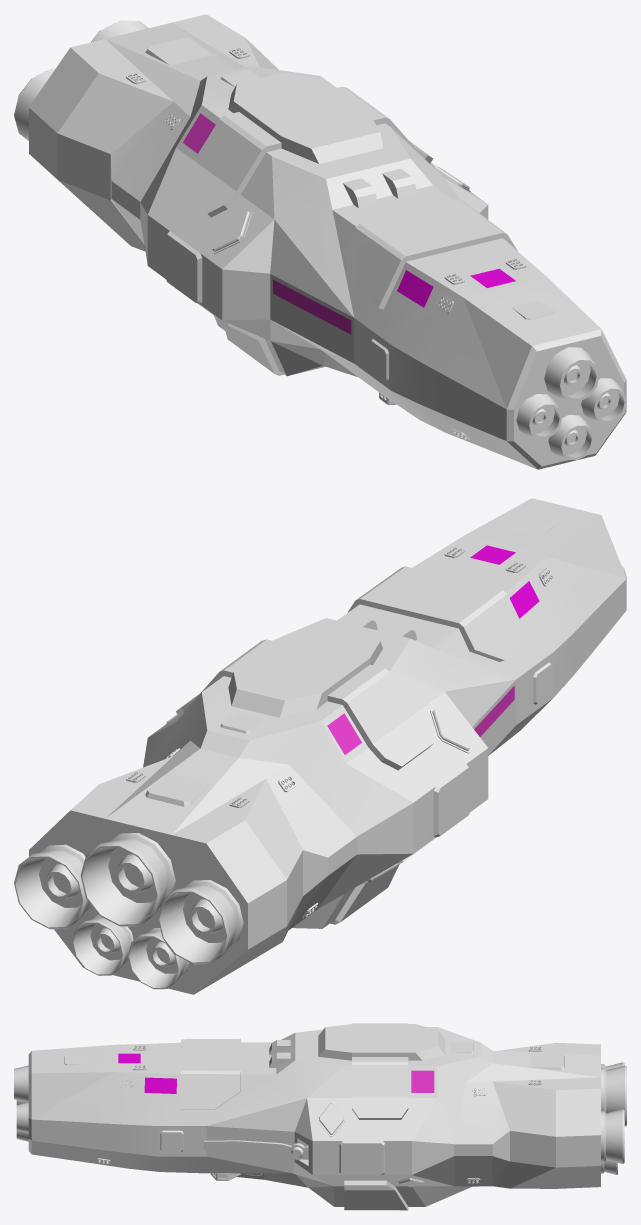
File: Moccatar Remake Visual.fbx
3 views of the same model, one above another, from view 1: azimuth 30°, elevation 25°; view 2: azimuth 150°, elevation 25°; view 3: azimuth 270°, elevation 25° (orthographic). The views are drawn at different scales.
Visible parts, largest first — view 1: CH_Mocc_Remake_Mid, CH_Mocc_Remake_Bow, CH_Mocc_Remake_Stern, CH_Mocc_Remake_Engines, CH_Mocc_Remake_Thrusters; view 2: CH_Mocc_Remake_Mid, CH_Mocc_Remake_Bow, CH_Mocc_Remake_Stern, CH_Mocc_Remake_Engines, CH_Mocc_Remake_Thrusters, CH_Mocc_Remake_Glow; view 3: CH_Mocc_Remake_Mid, CH_Mocc_Remake_Bow, CH_Mocc_Remake_Stern, CH_Mocc_Remake_Engines, CH_Mocc_Remake_Antenna, CH_Mocc_Remake_Thrusters.
Part boxes in pixels (x1,y1,x2,y2): CH_Mocc_Remake_Mid: (110,66,488,363); CH_Mocc_Remake_Bow: (321,169,626,469); CH_Mocc_Remake_Stern: (29,14,325,376); CH_Mocc_Remake_Engines: (14,20,626,460); CH_Mocc_Remake_Thrusters: (126,48,525,440); CH_Mocc_Remake_Mid: (143,618,516,930); CH_Mocc_Remake_Bow: (337,498,626,755); CH_Mocc_Remake_Stern: (29,741,434,994); CH_Mocc_Remake_Engines: (14,509,626,989); CH_Mocc_Remake_Thrusters: (126,547,565,918); CH_Mocc_Remake_Glow: (53,783,293,963); CH_Mocc_Remake_Mid: (206,1023,509,1186); CH_Mocc_Remake_Bow: (28,1038,307,1187); CH_Mocc_Remake_Stern: (296,1042,600,1210); CH_Mocc_Remake_Engines: (14,1062,626,1174); CH_Mocc_Remake_Antenna: (203,1140,308,1159); CH_Mocc_Remake_Thrusters: (97,1045,542,1183).
Size of the model in its own units: 743 by 2172 by 607.
